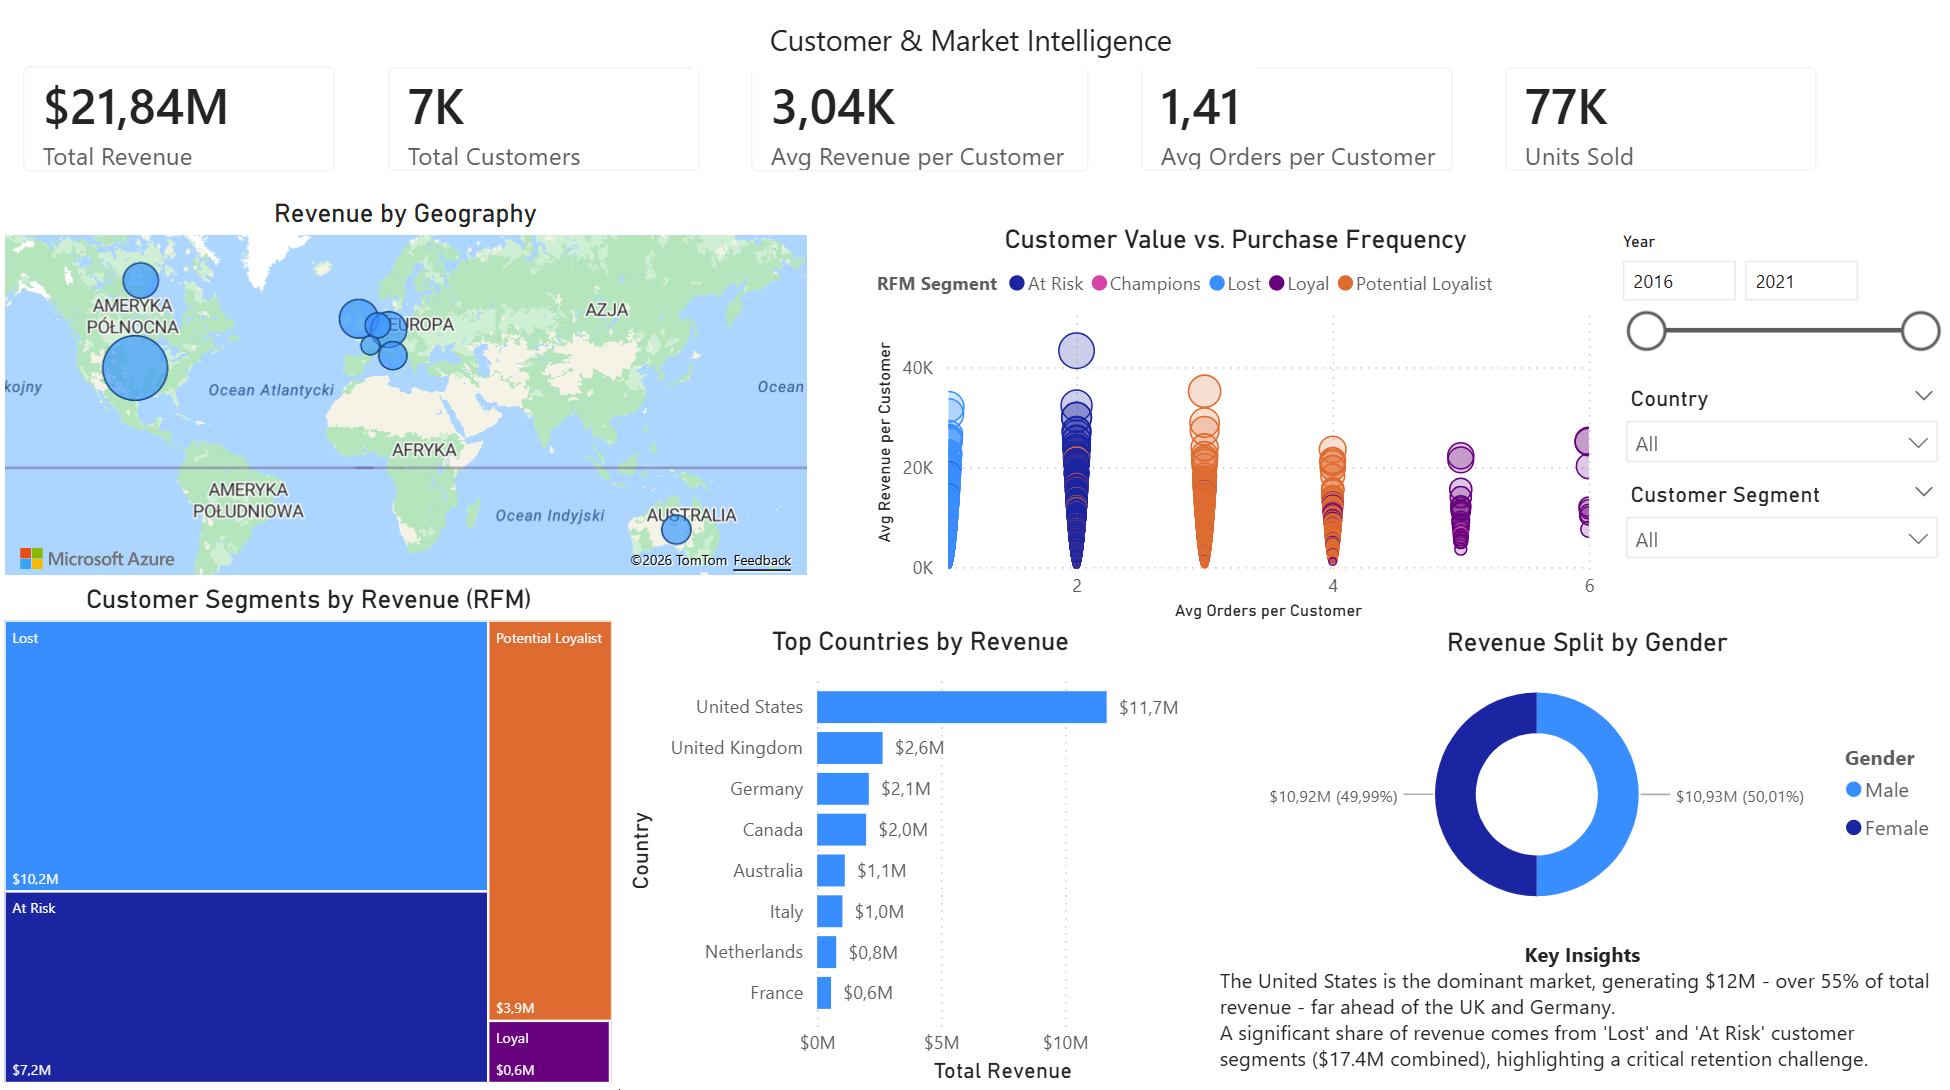

Layout of this report page (visuals, bound fields, positions):
{"tool":"powerbi","page":{"name":"Customer & Market Intelligence","canvas":[1280,720],"ordinal":3},"visuals":[{"type":"cardVisual","fields":{"Data":["Sales.Total Revenue"]},"box":[0,32.8,238.8,103.3],"z":0},{"type":"cardVisual","fields":{"Data":["Sales.Total Customers"]},"box":[238.8,33.4,238.2,102.7],"z":1000},{"type":"cardVisual","fields":{"Data":["Sales.Avg Revenue per Customer"]},"box":[476.4,33.4,255.5,102.7],"z":2000},{"type":"cardVisual","fields":{"Data":["Sales.Avg Orders per Customer"]},"box":[731.9,33.4,238.2,102.7],"z":3000},{"type":"cardVisual","fields":{"Data":["Sales.Units Sold"]},"box":[970.1,33.4,238.2,102.7],"z":4000},{"type":"azureMap","title":"Revenue by Geography","fields":{"Category":["Customers.Country"],"Size":["Sales.Total Revenue"]},"box":[0,136.1,534.5,252.4],"z":5000},{"type":"scatterChart","title":"Customer Value vs. Purchase Frequency","fields":{"X":["Sales.Avg Orders per Customer"],"Y":["Sales.Avg Revenue per Customer"],"Series":["Customers.RFM Segment"],"Size":["Sales.Total Revenue"],"Category":["Customers.CustomerKey"]},"box":[570.4,153.4,480.1,263.5],"z":6000},{"type":"treemap","title":"Customer Segments by Revenue (RFM)","fields":{"Group":["Customers.RFM Segment"],"Values":["Sales.Total Revenue"]},"box":[0,388.5,407.5,331.5],"z":7000},{"type":"donutChart","title":"Revenue Split by Gender","fields":{"Category":["Customers.Gender"],"Y":["Sales.Total Revenue"]},"box":[800.7,416.9,479.3,200],"z":8000},{"type":"clusteredBarChart","title":"Top Countries by Revenue","fields":{"Category":["Customers.Country"],"Y":["Sales.Total Revenue"]},"box":[407.5,416.3,393.2,303.7],"z":9000},{"type":"slicer","fields":{"Values":["Calendar.Year"]},"box":[1051.1,153.4,228.9,100.2],"z":10000},{"type":"slicer","fields":{"Values":["Customers.Country"]},"box":[1056,253.6,224,70.5],"z":11000},{"type":"slicer","fields":{"Values":["Customers.RFM Segment"]},"box":[1056,316.8,224,61.2],"z":12000},{"type":"textbox","box":[454.9,14.9,370.2,36.6],"z":13000},{"type":"textbox","box":[795.3,616.9,484.7,103.1],"z":13001}]}

Visuals, with their boxes in screenshot pixels (x1, y1, x2, y2), scaled from the page's 1280x720 canvas onto the 1950x1090 screenshot:
cardVisual - Sales.Total Revenue: <region>0, 50, 364, 206</region>
cardVisual - Sales.Total Customers: <region>364, 51, 727, 206</region>
cardVisual - Sales.Avg Revenue per Customer: <region>726, 51, 1115, 206</region>
cardVisual - Sales.Avg Orders per Customer: <region>1115, 51, 1478, 206</region>
cardVisual - Sales.Units Sold: <region>1478, 51, 1841, 206</region>
"Revenue by Geography" azureMap: <region>0, 206, 814, 588</region>
"Customer Value vs. Purchase Frequency" scatterChart: <region>869, 232, 1600, 631</region>
"Customer Segments by Revenue (RFM)" treemap: <region>0, 588, 621, 1089</region>
"Revenue Split by Gender" donutChart: <region>1220, 631, 1949, 934</region>
"Top Countries by Revenue" clusteredBarChart: <region>621, 630, 1220, 1089</region>
slicer - Calendar.Year: <region>1601, 232, 1949, 384</region>
slicer - Customers.Country: <region>1609, 384, 1949, 491</region>
slicer - Customers.RFM Segment: <region>1609, 480, 1949, 572</region>
textbox: <region>693, 23, 1257, 78</region>
textbox: <region>1212, 934, 1949, 1089</region>
